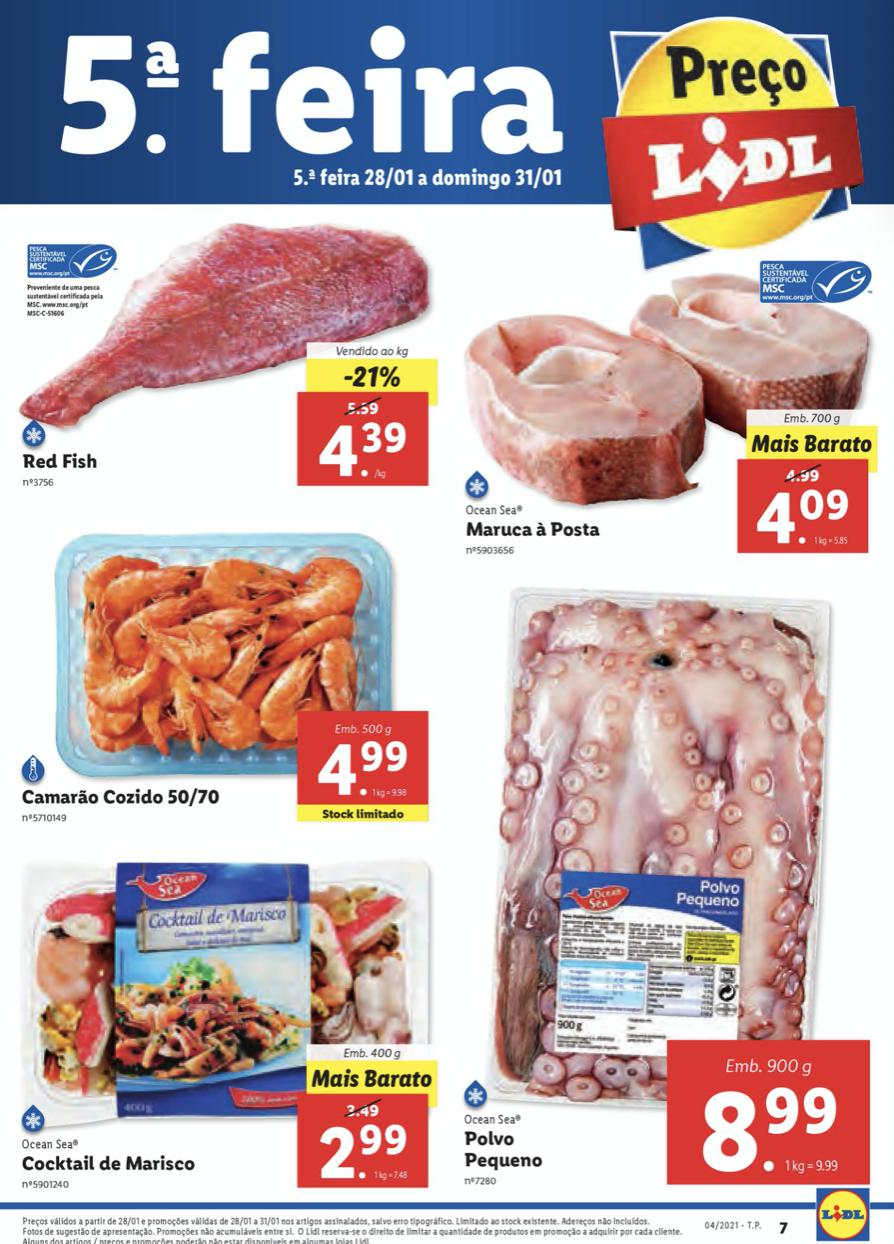name: (15, 783, 228, 810), (16, 1148, 202, 1177), (461, 515, 605, 543), (461, 1126, 547, 1170), (15, 450, 102, 470)
price: (662, 1038, 871, 1183), (296, 713, 430, 806), (738, 481, 871, 555), (296, 415, 430, 484), (299, 1120, 430, 1189)
product: (456, 566, 894, 1198), (5, 852, 455, 1197), (450, 249, 885, 570), (4, 530, 445, 837), (13, 209, 445, 506)
promotion: (338, 360, 407, 392)
